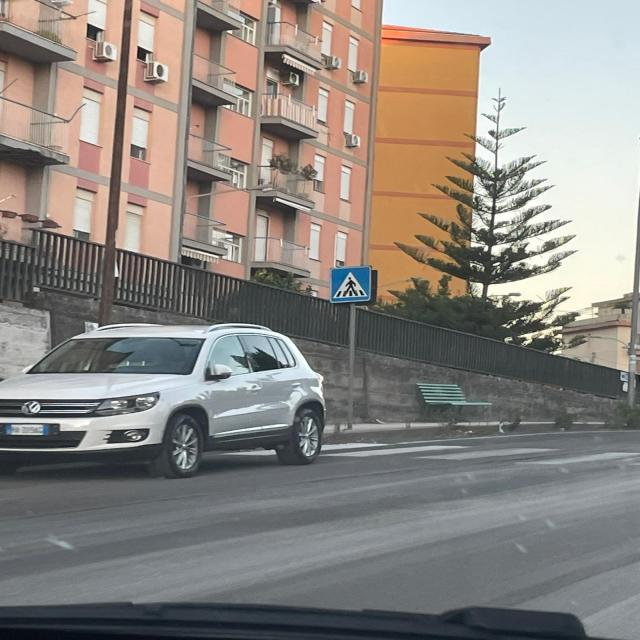info_crosswalk: (330, 266, 373, 304)
